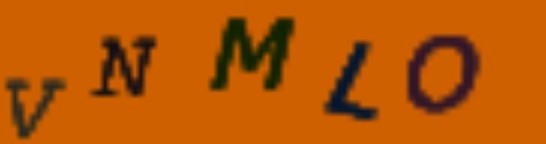L: (321, 37, 384, 124)
M: (204, 12, 302, 95)
N: (89, 31, 161, 100)
O: (404, 31, 485, 118)
V: (3, 72, 70, 142)
